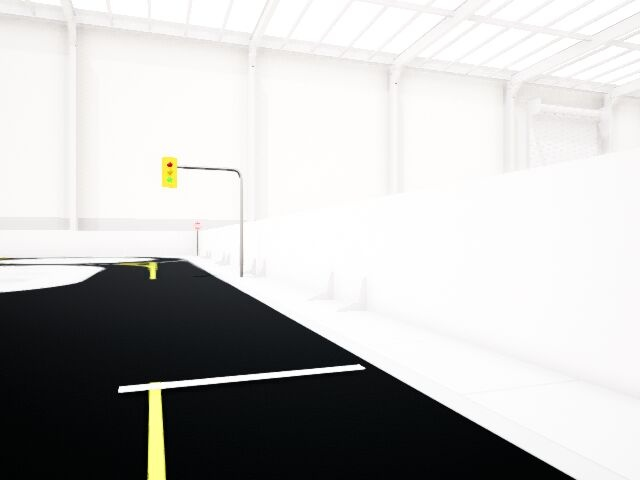green: (162, 157, 177, 186)
